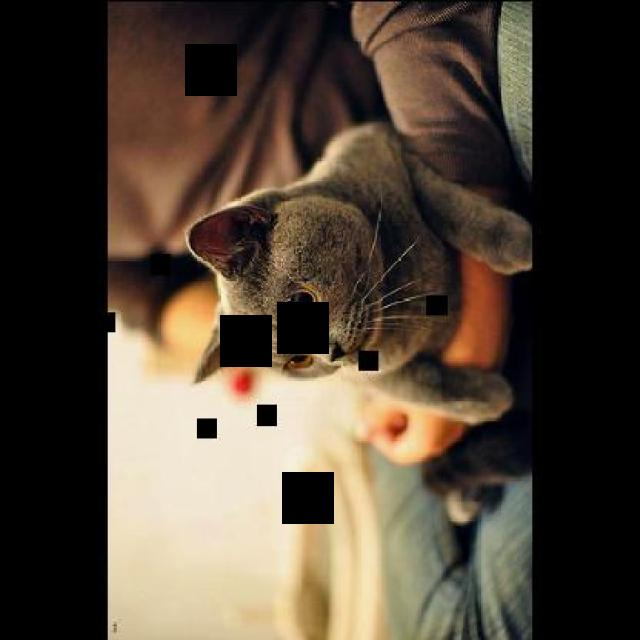unauthorized: (183, 117, 532, 425)
